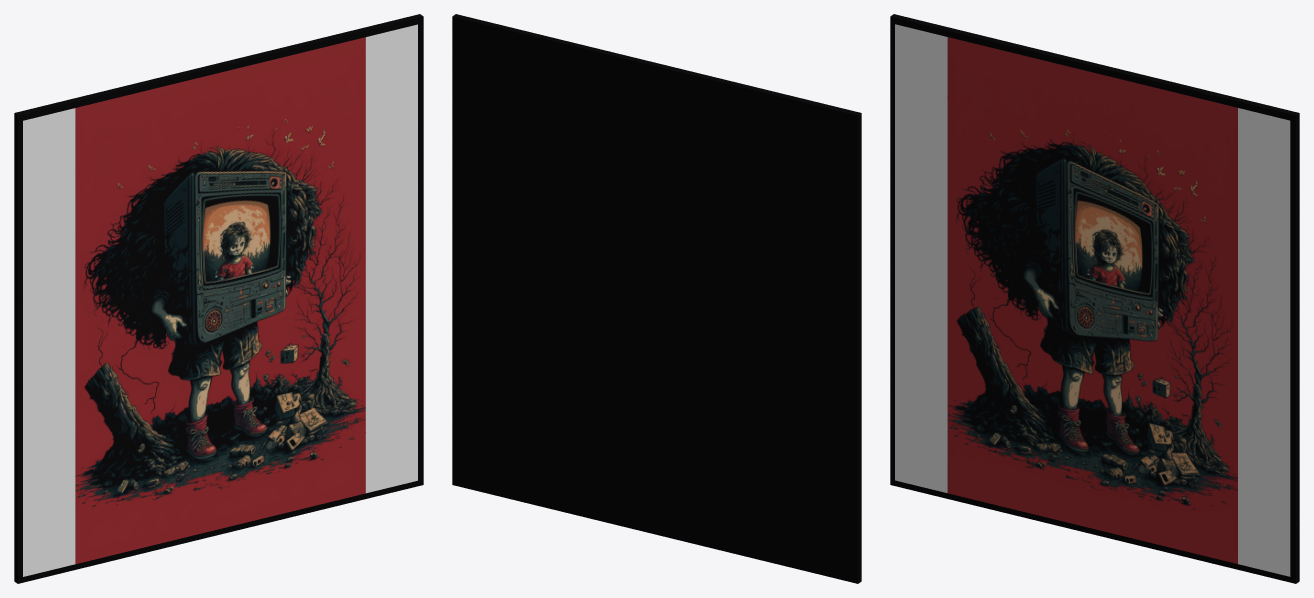
File: Kid2.glb
3 views of the same model, side by side, from view 1: azimuth 30°, elevation 25°; view 2: azimuth 150°, elevation 25°; view 3: azimuth 330°, elevation 25° (orthographic).
Parts seen in each view (by area): view 1: mesh_id1, node_id33; view 2: node_id33; view 3: mesh_id1, node_id33.
Boxes of the visible parts, <box> form: mesh_id1: <box>23,24,417,576</box>; node_id33: <box>14,14,423,583</box>; node_id33: <box>452,14,861,583</box>; mesh_id1: <box>895,24,1290,576</box>; node_id33: <box>890,14,1299,583</box>.
Size of the model in its own units: 0.8851 by 0.9764 by 0.0138.
Materials: 2 (2 with a texture image).
